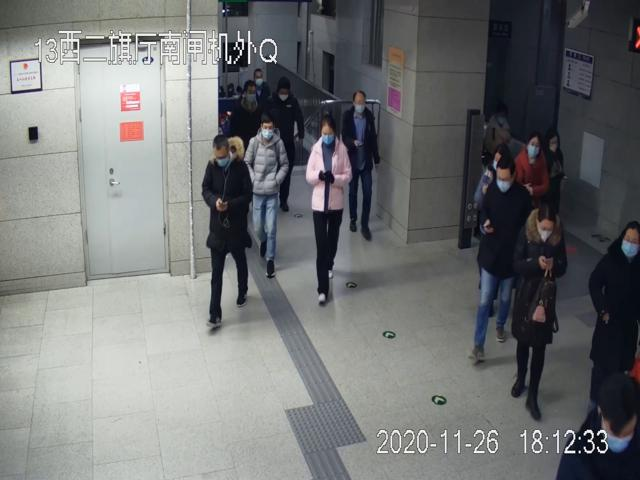person: (470, 154, 532, 366), (513, 200, 567, 420), (201, 134, 252, 326), (304, 116, 353, 304), (245, 116, 288, 277), (340, 92, 382, 241)
